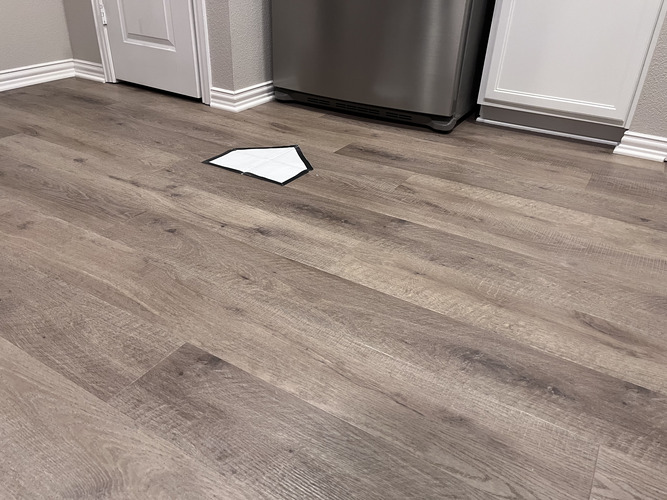homeplate: (200, 145, 312, 186)
